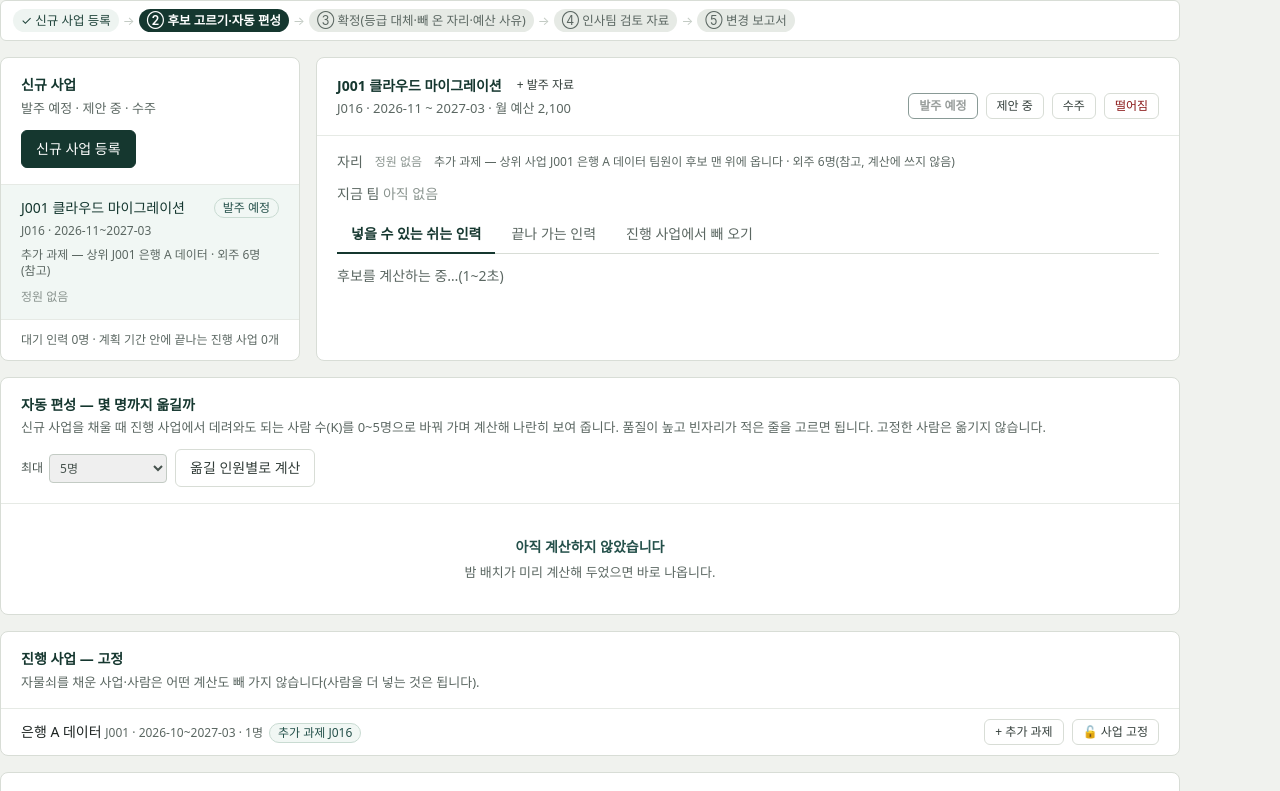
it: 추가 과제 › 진행 사업 행에서 추가 과제를 붙이고, 신규 사업 목록에 상위 사업·외주가 보인다
Expected: the text "추가 과제 — 상위 J001 은행 A 데이터 · 외주 6명(참고)" is shown, [21,247,279,279]
Expected: the text "추가 과제 J016" is shown, [269,723,361,743]
Click the tab "진행 사업에서 빼 오기".
click(689, 234)  # box [612,216,767,254]
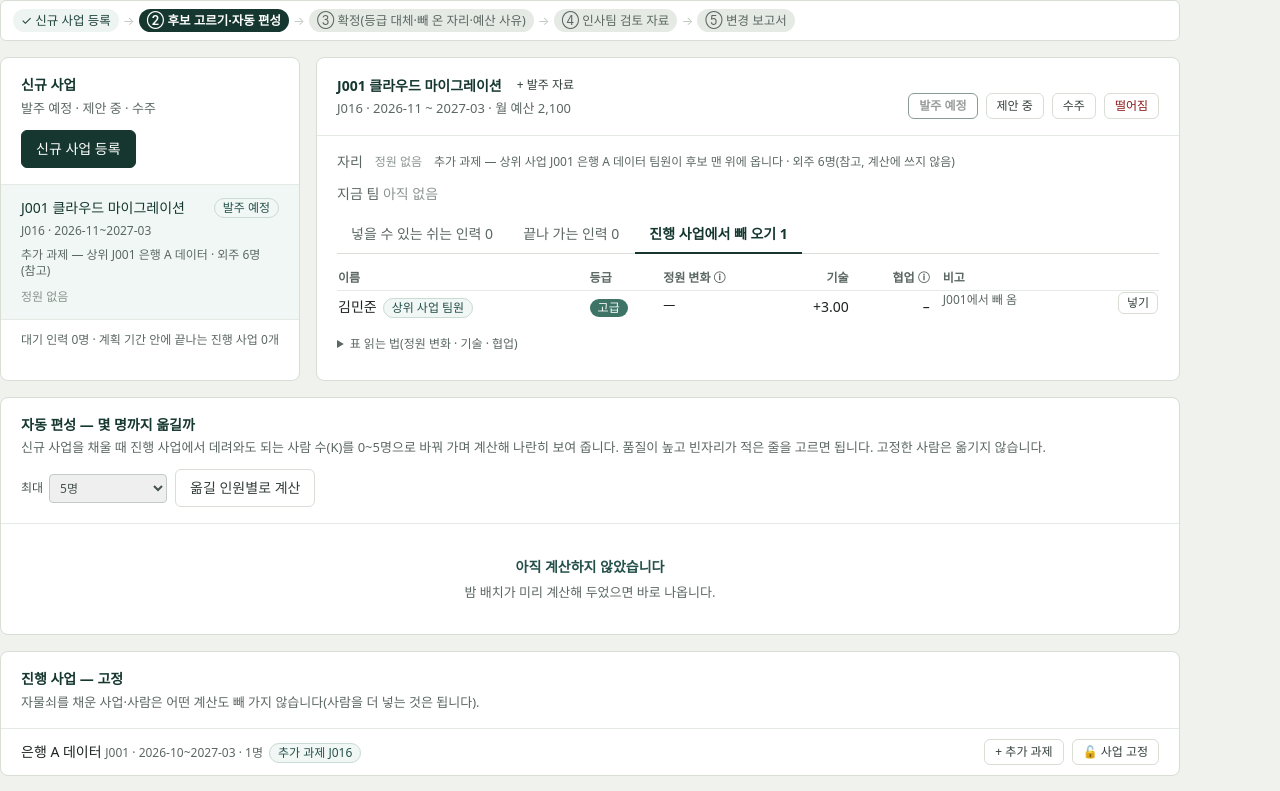
Now the text "상위 사업 팀원" is shown, box [383,298,473,318]
Click the button with aria-label "은행 A 데이터에 추가 과제 붙이기".
click(1024, 752)  # box [984,739,1064,765]
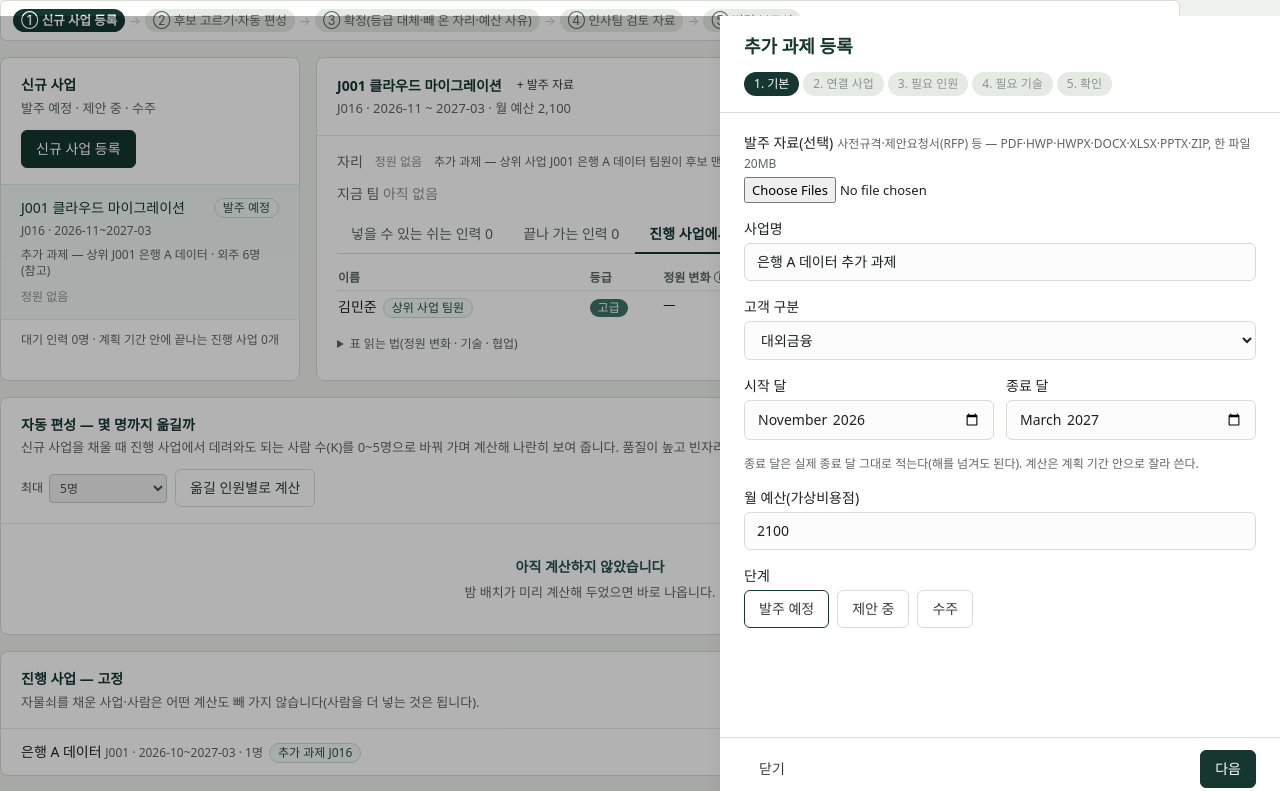
Now the heading "추가 과제 등록" is shown, box [744,34,853,58]
